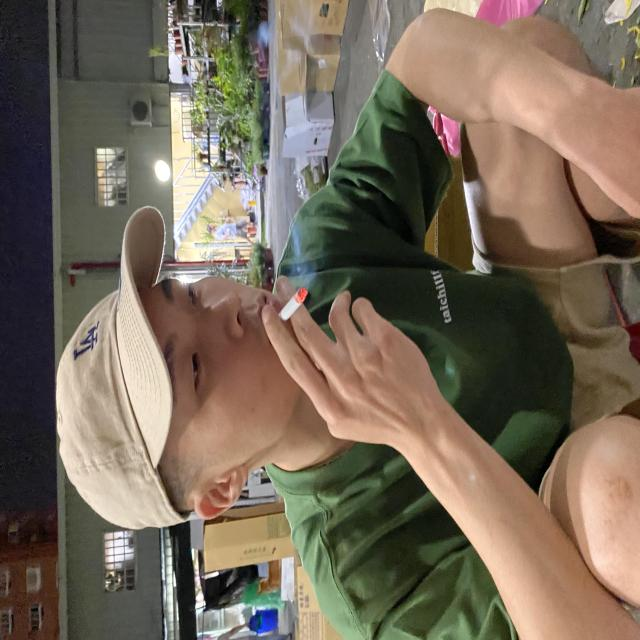cigarette: (274, 281, 316, 336)
